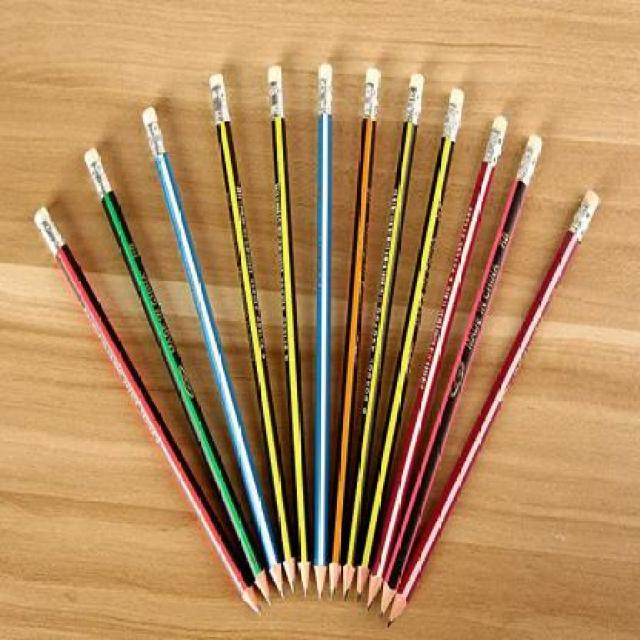pencil: (384, 180, 609, 638), (29, 199, 262, 621), (80, 137, 275, 609), (375, 124, 550, 631), (364, 107, 517, 622), (138, 100, 288, 606), (355, 77, 472, 618), (341, 67, 432, 622), (205, 68, 298, 605), (327, 61, 388, 618), (265, 61, 312, 608), (312, 60, 336, 610)
